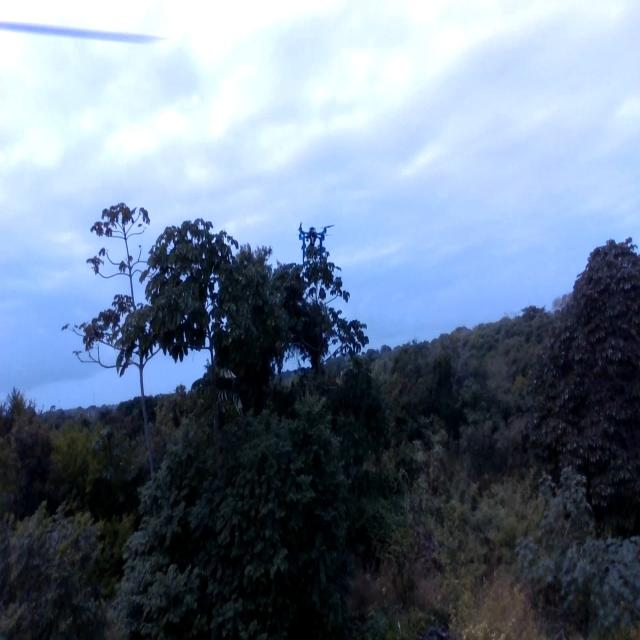-uav-: (289, 213, 347, 271)
